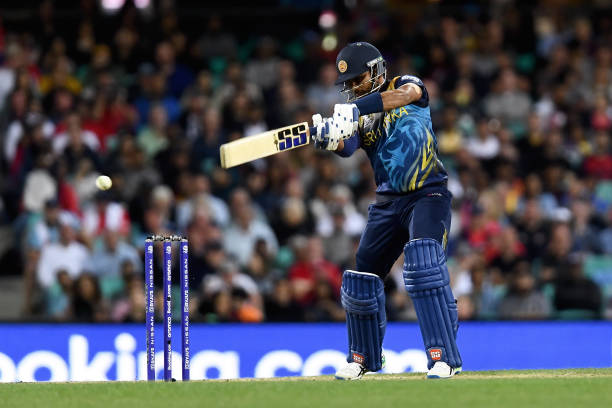bottom left: (211, 136, 233, 153)
bottom right: (216, 158, 237, 175)
top left: (297, 114, 315, 130)
top right: (299, 134, 315, 149)
